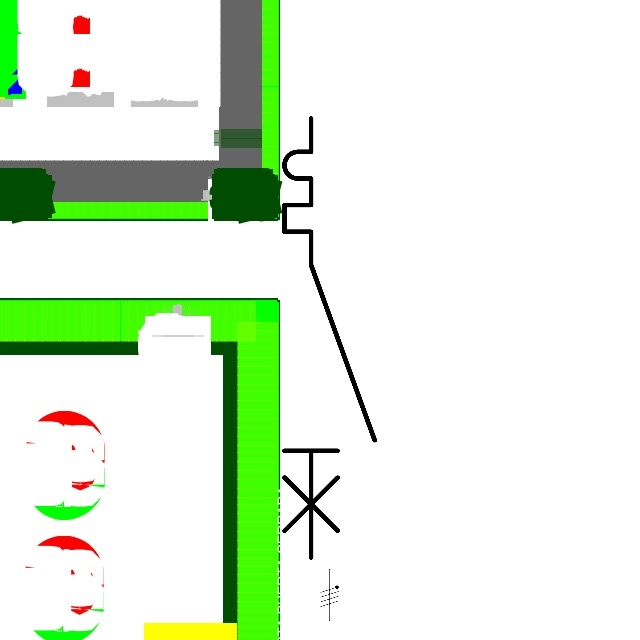interruptor_termomagnetico: (273, 107, 386, 568)
